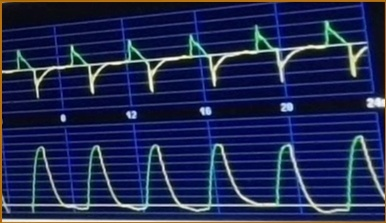Normal Flow: (5, 17, 366, 100)
Normal Volume: (8, 131, 384, 216)
